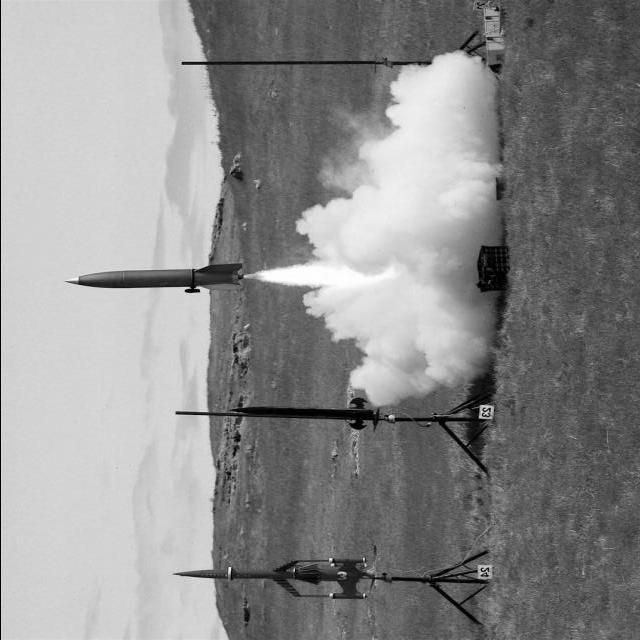missile: (171, 558, 370, 600), (58, 260, 241, 294), (221, 398, 376, 429)
